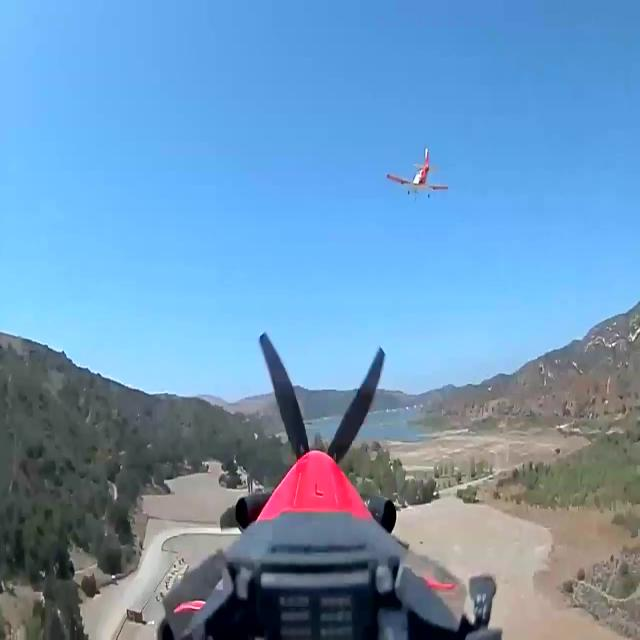iha: (385, 146, 448, 204)
